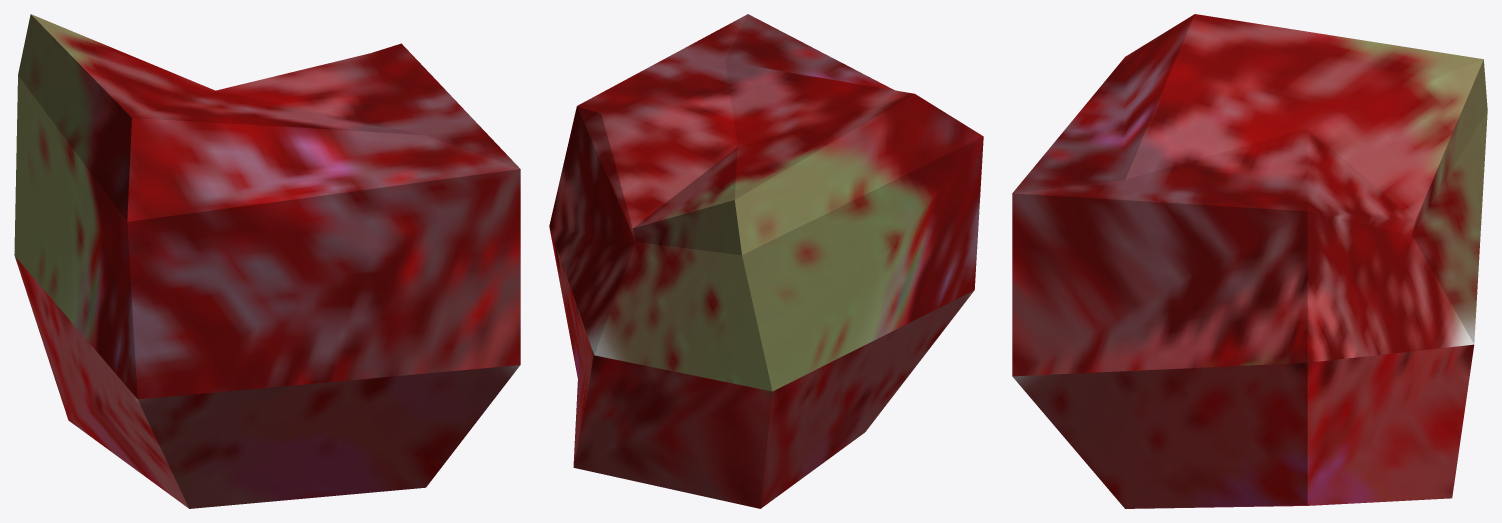
The model's file is gojjs5.fbx.
3 views of the same model, side by side, from view 1: azimuth 30°, elevation 25°; view 2: azimuth 150°, elevation 25°; view 3: azimuth 270°, elevation 25° (orthographic). The views are drawn at different scales.
Visible parts, largest first — view 1: pSphere2; view 2: pSphere2; view 3: pSphere2.
Boxes of the visible parts, left/top/right/bottom form: pSphere2: left=14, top=14, right=520, bottom=508; pSphere2: left=549, top=14, right=983, bottom=508; pSphere2: left=1012, top=14, right=1487, bottom=508.
Bounding box in the file's own units: 1.33 × 1.31 × 1.46.
1 material, 1 textured.
